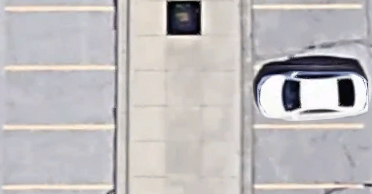Occupied: (247, 66, 364, 127)
Vacant: (3, 127, 121, 187), (248, 126, 364, 187), (4, 8, 121, 68), (4, 68, 121, 128), (247, 7, 362, 67)
